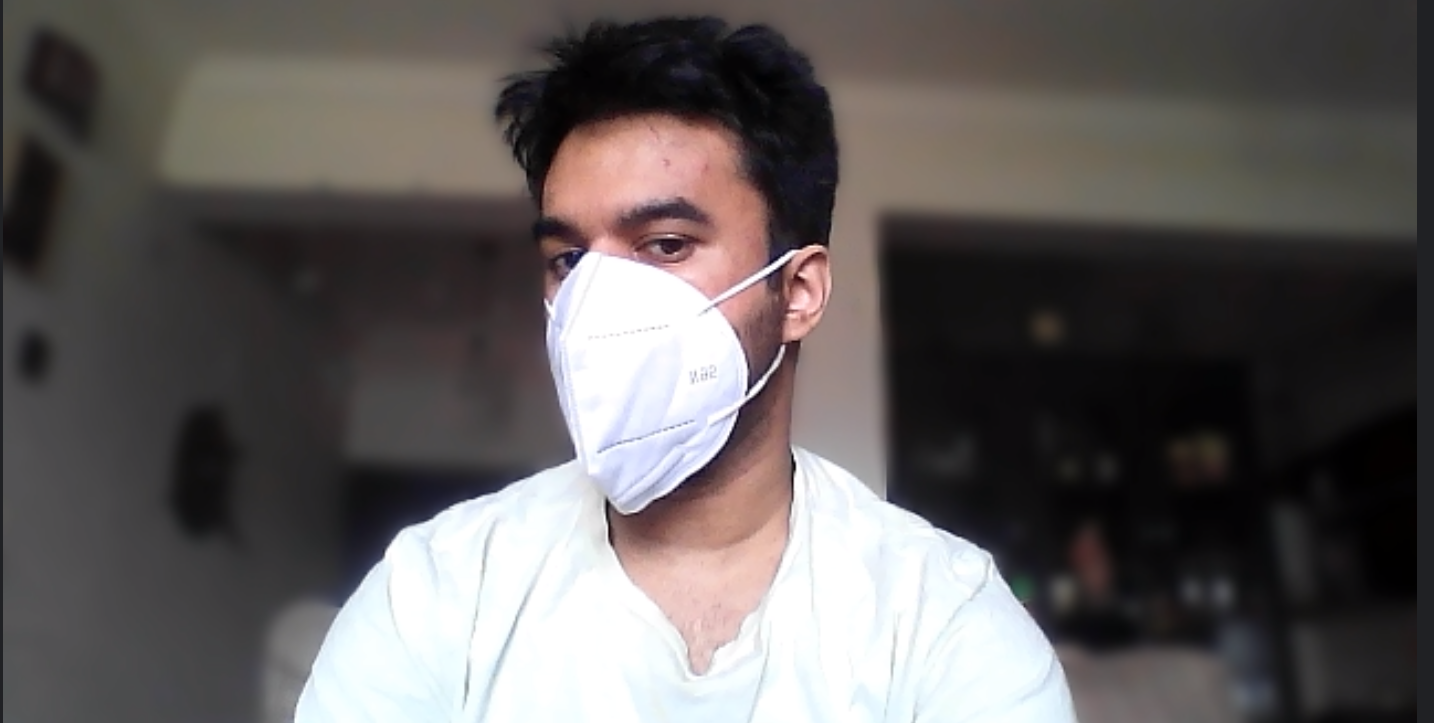Mask: (531, 270, 808, 509)
